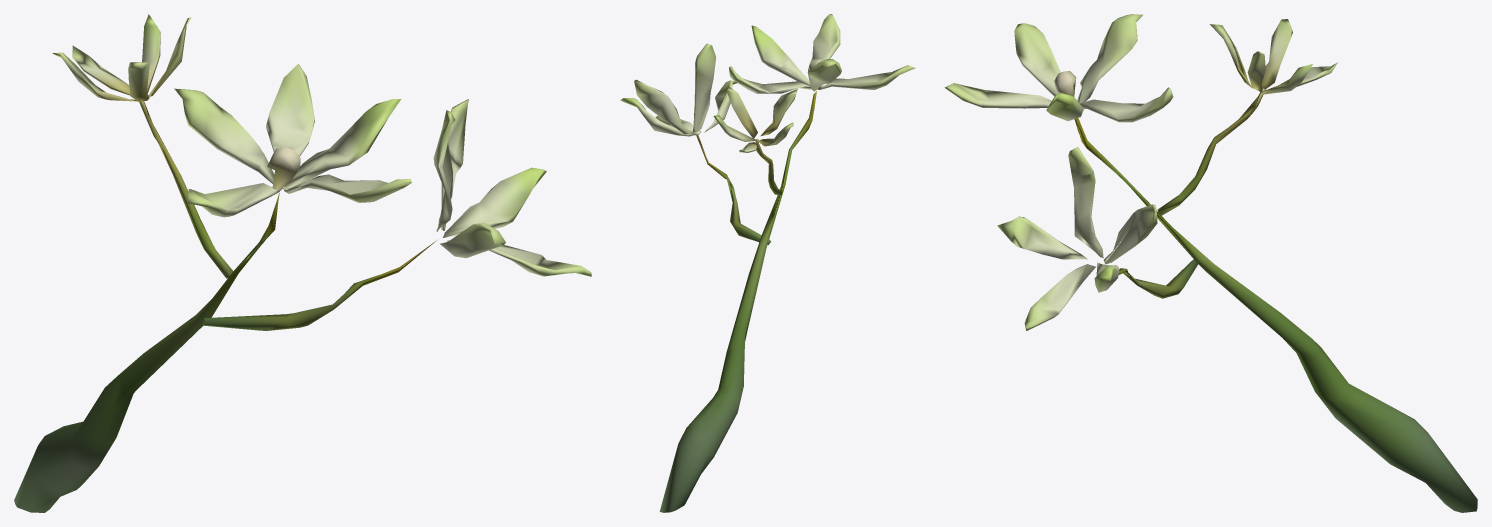
The picture shows the model from 3 angles, left to right: view 1: azimuth 30°, elevation 25°; view 2: azimuth 150°, elevation 25°; view 3: azimuth 270°, elevation 25°; orthographic projection. The views are drawn at different scales.
Parts seen in each view (by area): view 1: LOD 2_66885528158422731_bb9398364d468ec489d5e3c54dd32286; view 2: LOD 2_66885528158422731_bb9398364d468ec489d5e3c54dd32286; view 3: LOD 2_66885528158422731_bb9398364d468ec489d5e3c54dd32286.
Part boxes in pixels (x1,y1,x2,y2): LOD 2_66885528158422731_bb9398364d468ec489d5e3c54dd32286: [14, 14, 591, 512]; LOD 2_66885528158422731_bb9398364d468ec489d5e3c54dd32286: [620, 14, 915, 512]; LOD 2_66885528158422731_bb9398364d468ec489d5e3c54dd32286: [944, 14, 1477, 512].
Bounding box in the file's own units: 7.97 × 10.62 × 10.85.
